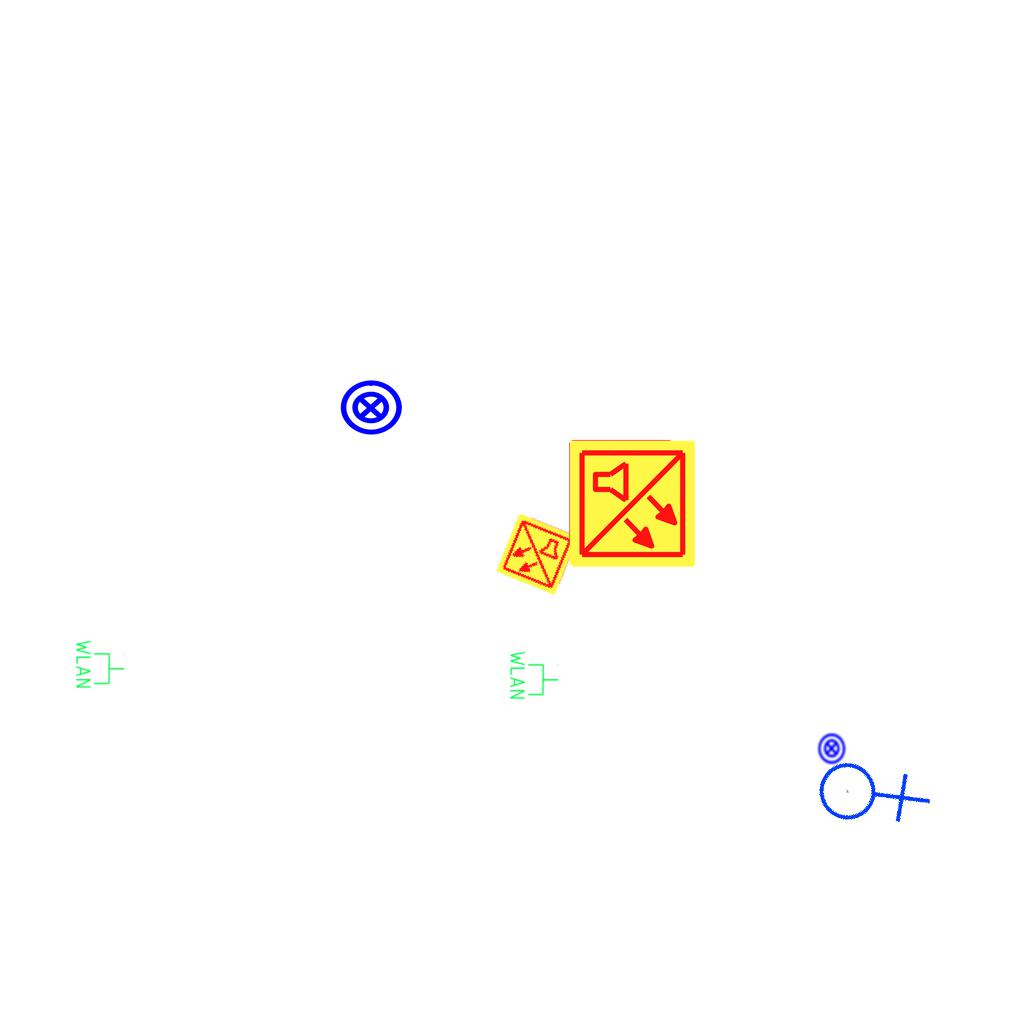Elektroanschluss_allgemein_230V_Geraeteanschlussdose_230V: (800, 721, 937, 859)
OKW_Multisensormelder_(Kombination_optischer_Rauch-Kahlenmonoxid_Waerme-Melder): (566, 438, 698, 570), (494, 511, 580, 597)
Taster_beleuchtet: (338, 375, 404, 441), (815, 732, 848, 765)
WLAN: (74, 638, 126, 690), (508, 649, 560, 701)
